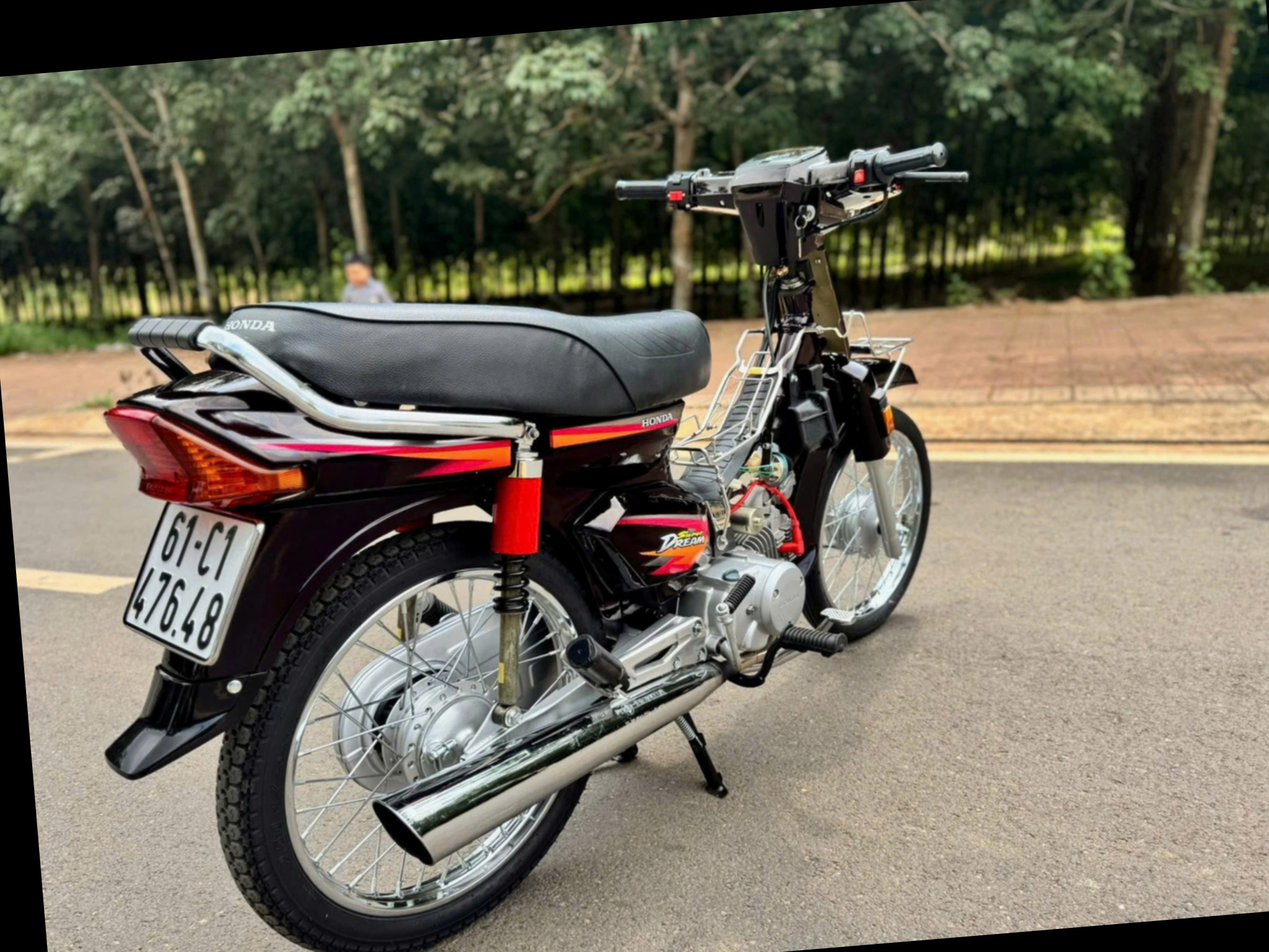Bien-so: (59, 412, 223, 589)
